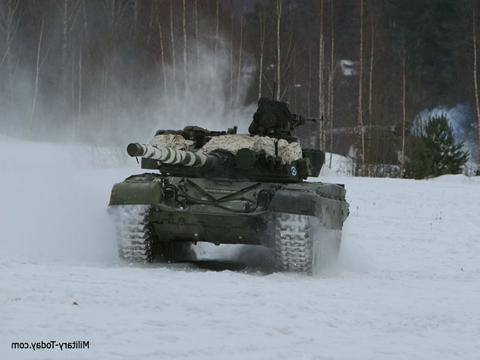tank: (106, 99, 351, 277)
